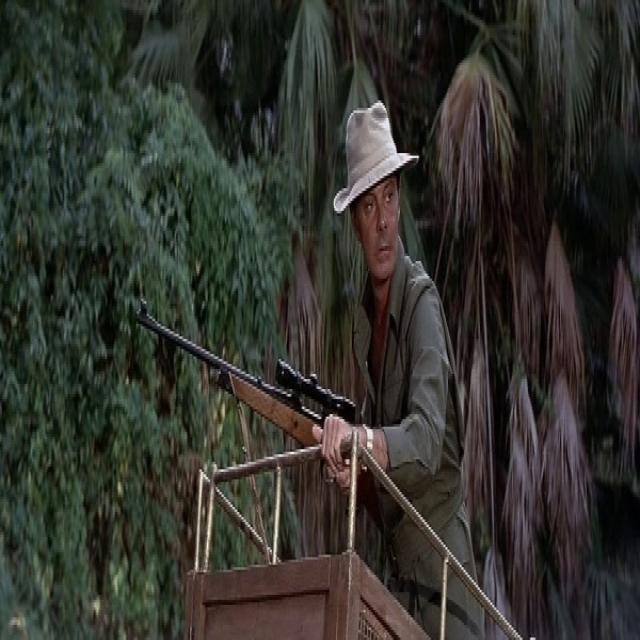rifle: (138, 289, 378, 492)
